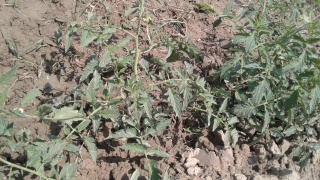tomato plant: (234, 6, 320, 153), (70, 59, 220, 139)
